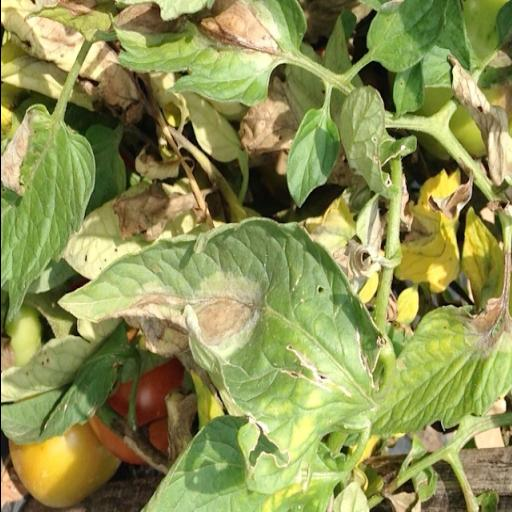disease_tomato: (59, 225, 401, 447), (0, 80, 95, 334), (358, 284, 508, 442), (114, 1, 316, 98)
